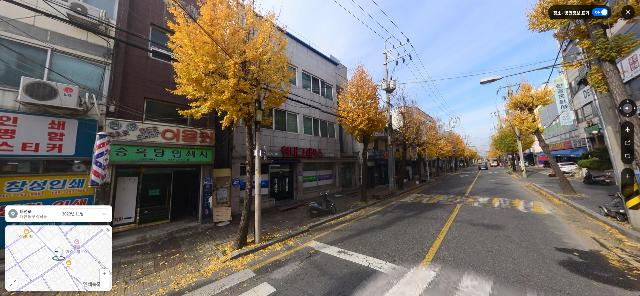ginkgo: (163, 0, 297, 250), (525, 0, 640, 236), (504, 79, 576, 195), (332, 57, 389, 203), (382, 72, 432, 191), (394, 97, 427, 185), (499, 108, 537, 176), (495, 124, 526, 172), (419, 130, 440, 178), (432, 132, 450, 174)
